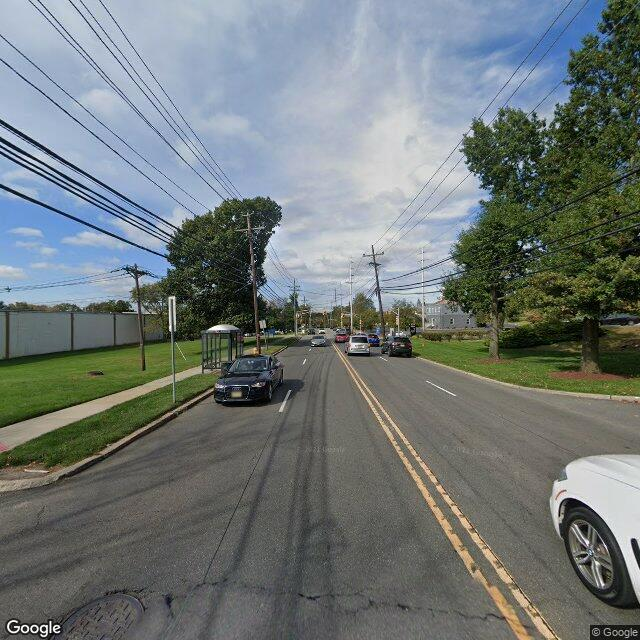pothole: (158, 589, 184, 617)
